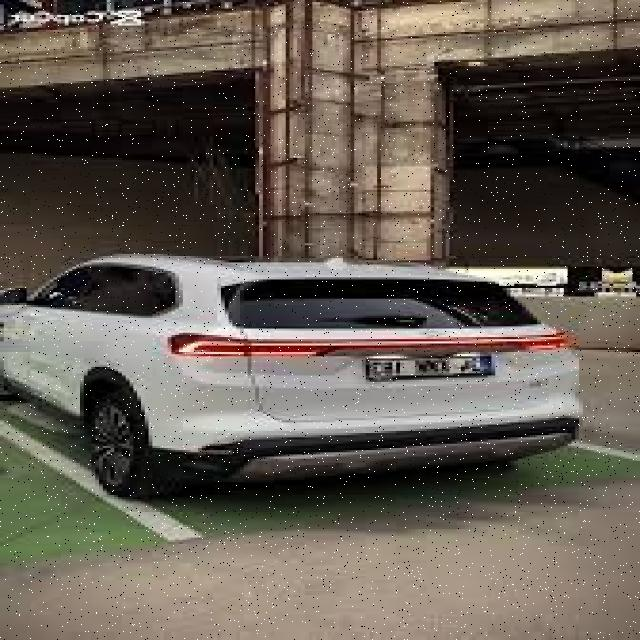car: (171, 335, 343, 356)
togg: (4, 254, 583, 497)
